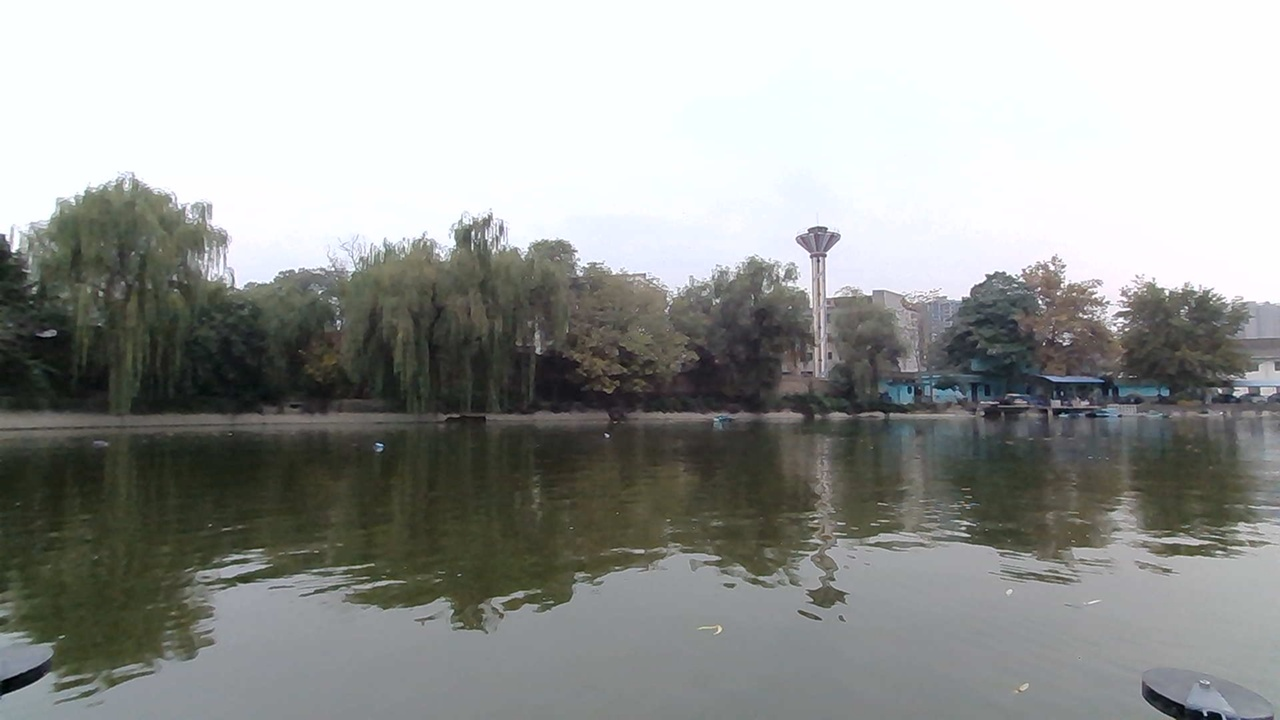bottle: (365, 437, 396, 455)
